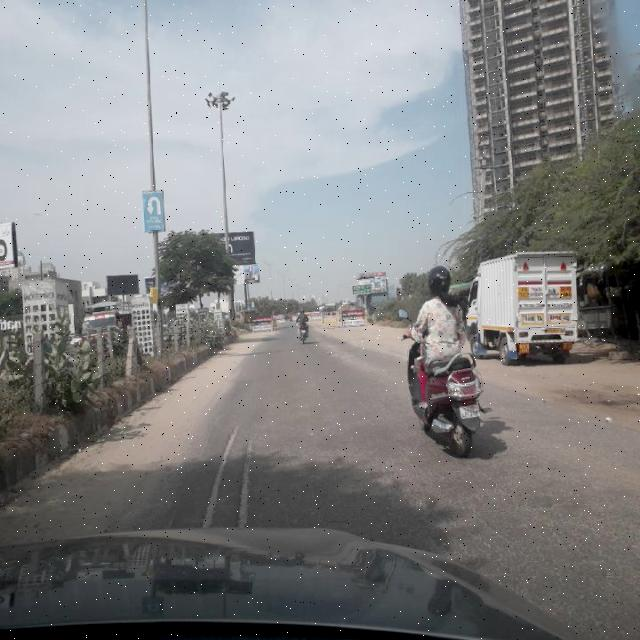D00: (196, 403, 236, 529), (236, 421, 268, 526)
D20: (337, 431, 632, 629)
